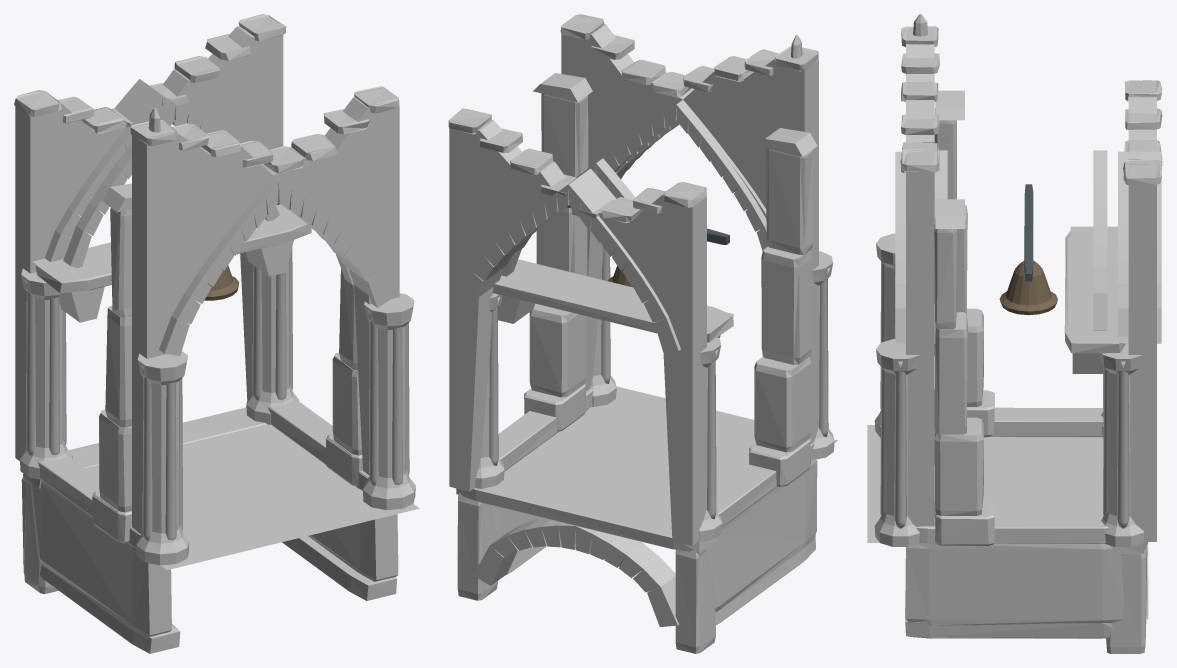
Rendered from spire_bay.glb.
The picture shows the model from 3 angles, left to right: view 1: azimuth 30°, elevation 25°; view 2: azimuth 150°, elevation 25°; view 3: azimuth 270°, elevation 25°; orthographic projection. The views are drawn at different scales.
Visible parts, largest first — view 1: spire_bay__masonry, spire_bay__dressed_stone, spire_bay__paving, spire_bay__bronze; view 2: spire_bay__masonry, spire_bay__dressed_stone, spire_bay__paving; view 3: spire_bay__masonry, spire_bay__dressed_stone, spire_bay__paving, spire_bay__bronze, spire_bay__iron.
Part boxes in pixels (x1,y1,x2,y2): spire_bay__masonry: (15,26,399,653); spire_bay__dressed_stone: (14,14,415,565); spire_bay__paving: (33,204,419,570); spire_bay__bronze: (204,265,239,300); spire_bay__masonry: (449,24,818,653); spire_bay__dressed_stone: (448,14,834,553); spire_bay__paving: (495,261,838,516); spire_bay__masonry: (904,44,1156,653); spire_bay__dressed_stone: (874,14,1162,553); spire_bay__paving: (867,226,1127,542); spire_bay__bronze: (999,260,1057,315); spire_bay__iron: (1024,184,1033,281).
Bounding box in the file's own units: 4.66 × 8.79 × 4.44.
